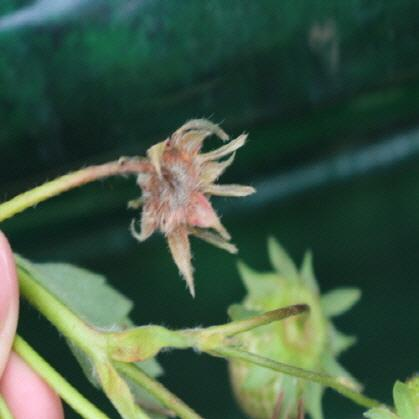Gray Mold: (116, 117, 256, 300)
